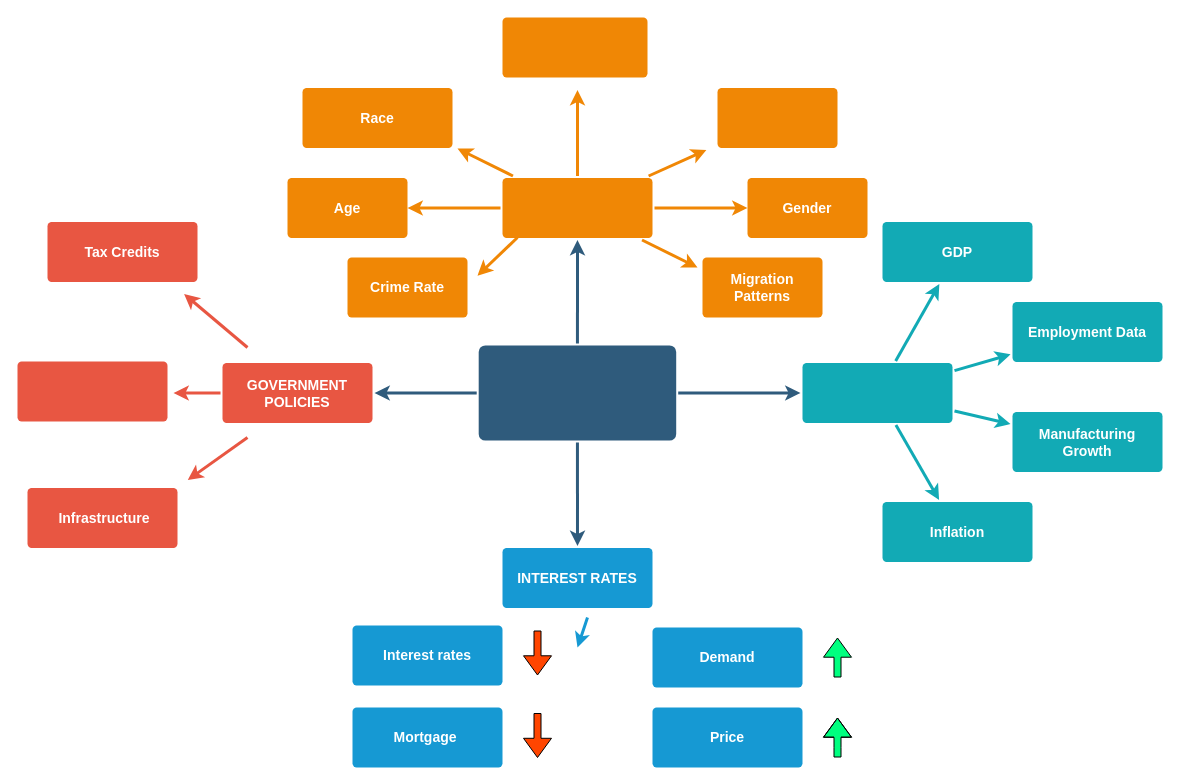
Image size: 1179x784. Some labels were removed from this diagram. Each missing label, with the centre of its shape:
Demographics: (577,208)
Economy: (877,392)
FACTORS AFFECTING THE RESIDENTIAL HOUSE PRICES: (577,392)
Income: (777,118)
Population: (574,47)
Subsidies: (92,391)
